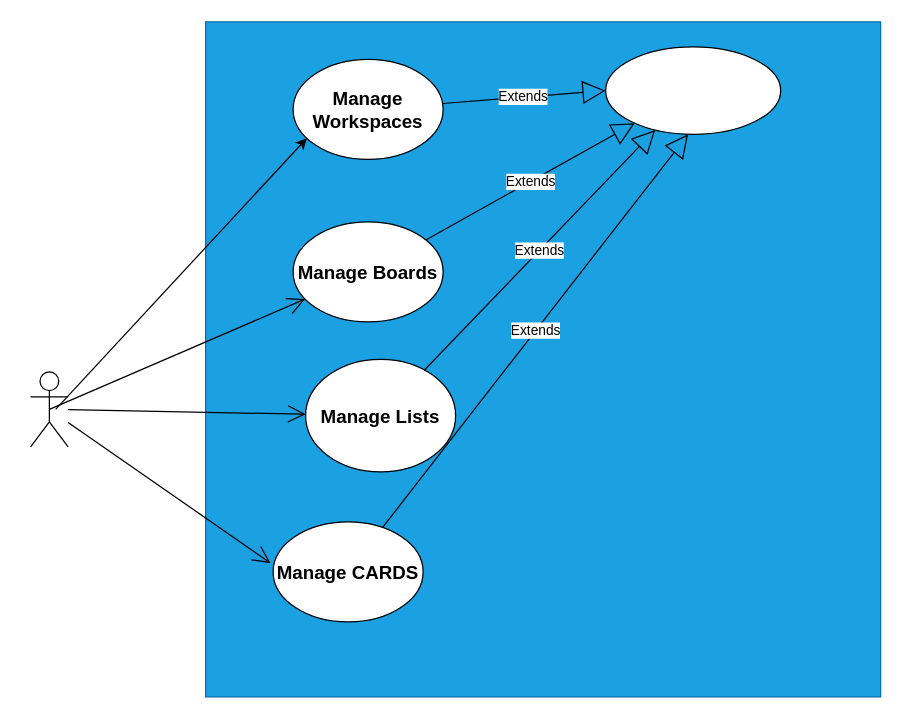
This 903x719 diagram has some shape labels left out. Here are the shapes that lost their labels. From the top down, the centre of each, then its label:
pixel 692 90: Login
pixel 48 409: User
